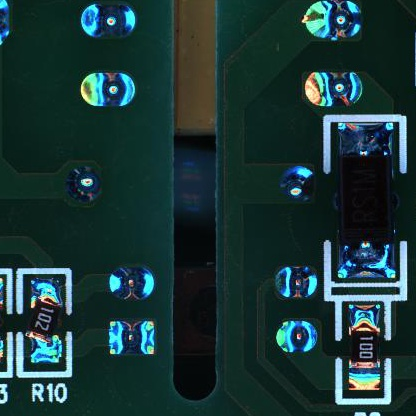spot: (303, 1, 361, 40), (305, 71, 364, 108), (80, 70, 135, 109), (80, 3, 138, 39), (107, 319, 156, 357), (106, 266, 156, 302), (274, 264, 321, 299), (64, 164, 103, 204), (276, 319, 317, 353), (281, 166, 316, 205)
